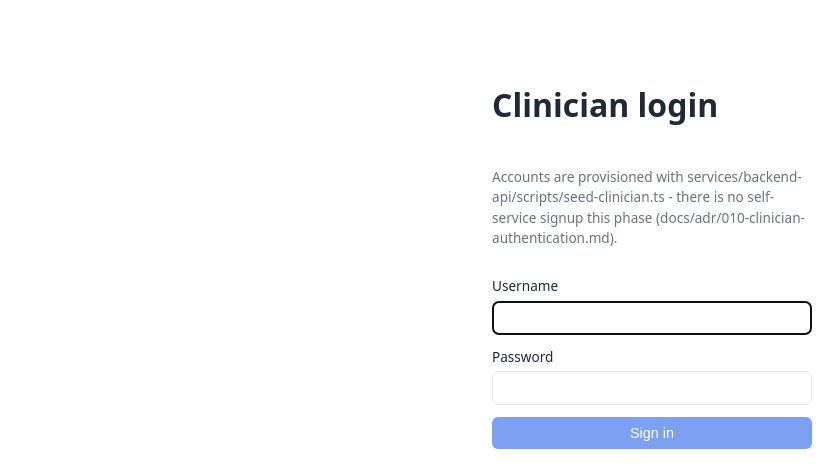
LoginPage › logs in and stores the token on success
Type "drchen" into the field labelled "Username". click: (652, 318)
box: [492, 301, 812, 335]
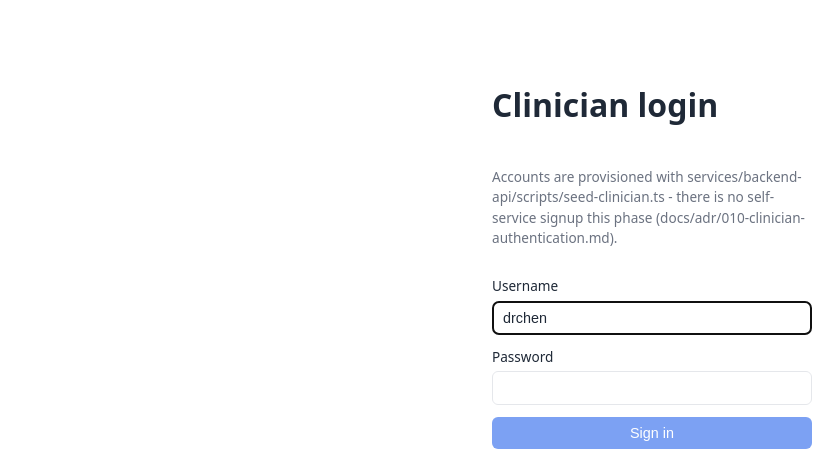
Type "the-password" into the password field labelled "Password". click: (652, 388)
box: [492, 371, 812, 405]
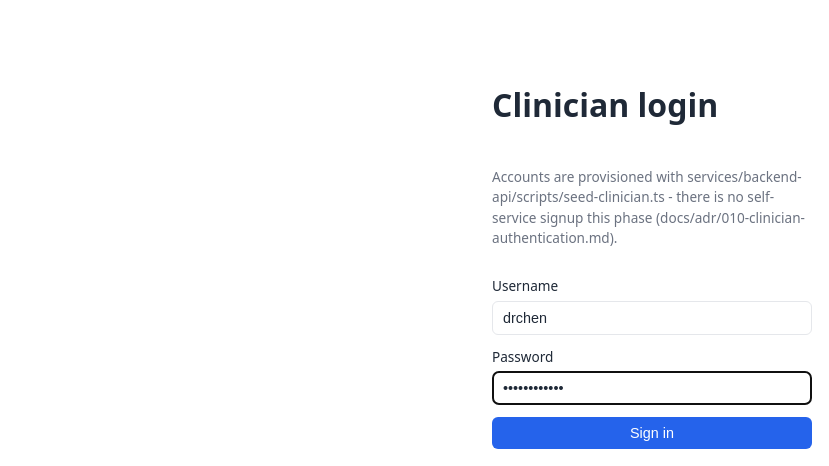
Click the button "Sign in". click: (652, 433)
box: [492, 417, 812, 449]
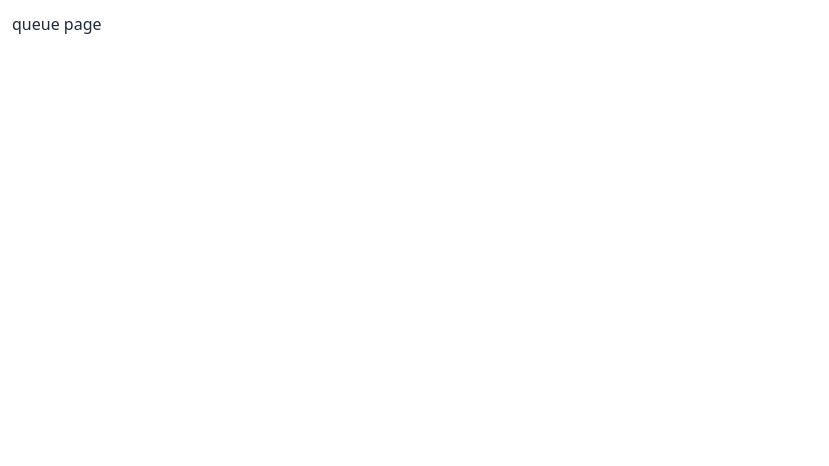
Result: the text "queue page" is shown at [12, 13, 102, 35]
